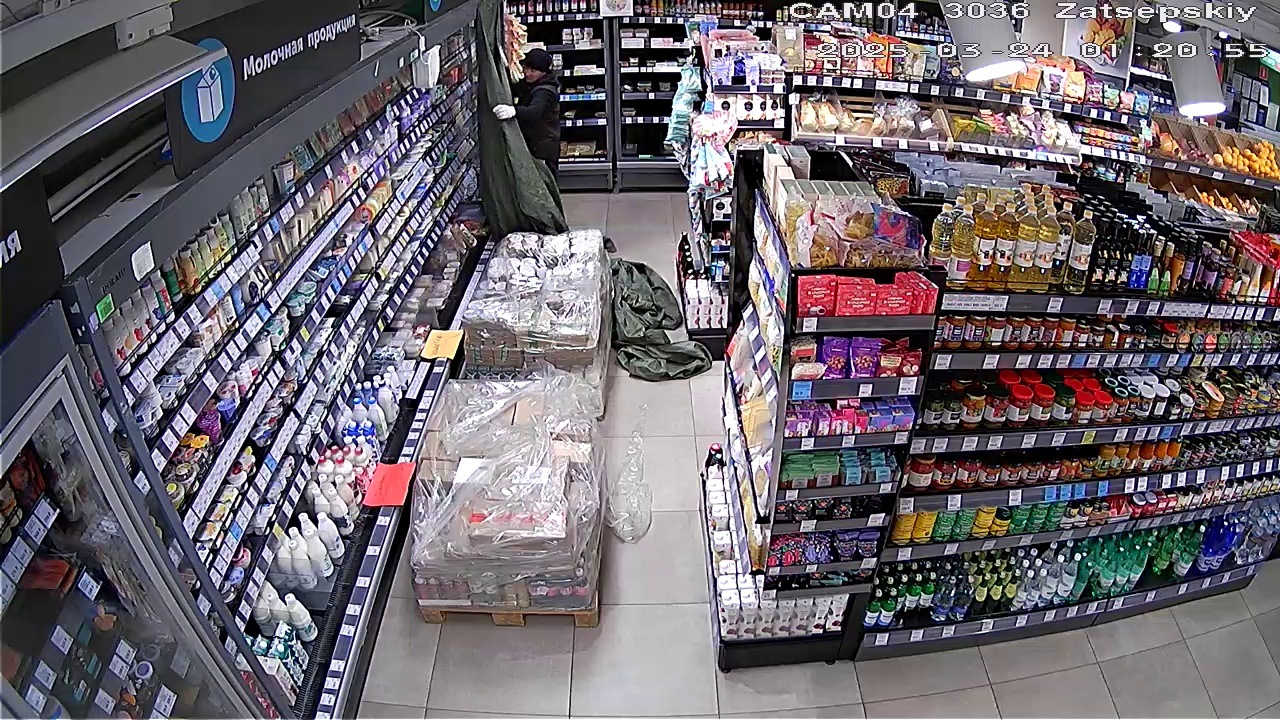Human: (480, 35, 565, 166)
pallet: (404, 372, 608, 627), (461, 222, 603, 375)
